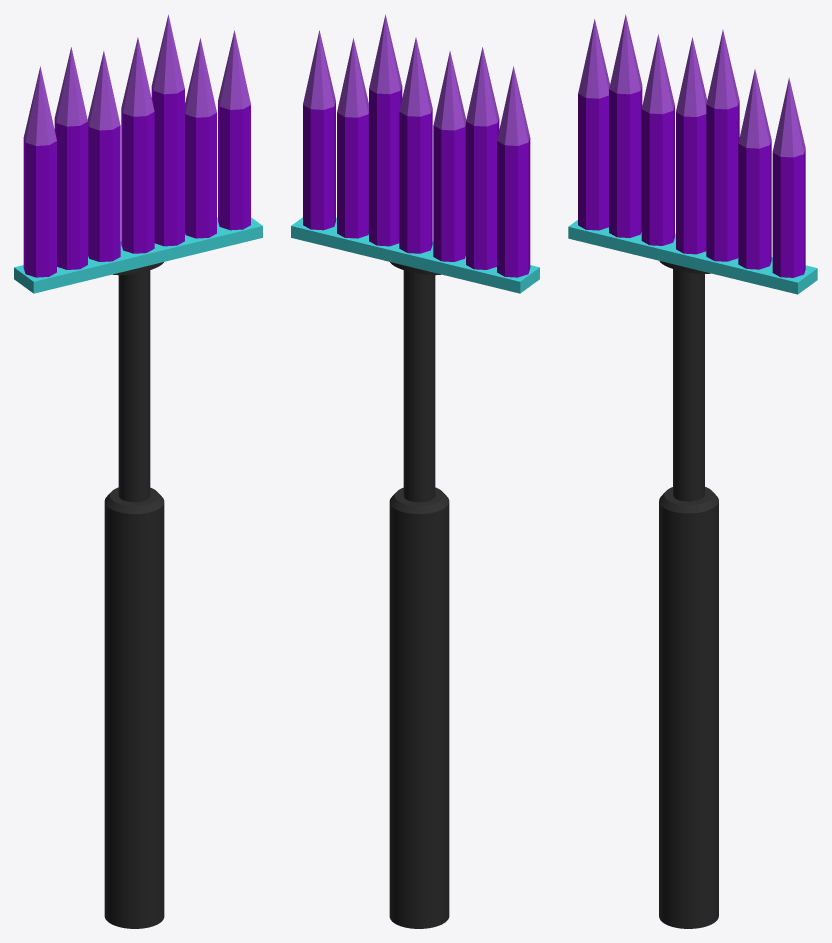
Rendered from kaatein.fbx.
The picture shows the model from 3 angles, left to right: view 1: azimuth 30°, elevation 25°; view 2: azimuth 150°, elevation 25°; view 3: azimuth 330°, elevation 25°; orthographic projection.
Parts seen in each view (by area): view 1: Cylinder.007, Cylinder.004, Cylinder.003, Cylinder.001, Cylinder, Cylinder.002, Cylinder.006, Cylinder.005, Cube; view 2: Cylinder.007, Cylinder.004, Cylinder.003, Cylinder.001, Cylinder, Cylinder.002, Cylinder.006, Cylinder.005, Cube; view 3: Cylinder.007, Cylinder.004, Cylinder.001, Cylinder.002, Cylinder.003, Cylinder.005, Cylinder.006, Cylinder, Cube.
Boxes of the visible parts, <box> form: Cylinder.007: <box>104,262,164,928</box>; Cylinder.004: <box>151,14,184,246</box>; Cylinder.003: <box>121,37,154,253</box>; Cylinder.001: <box>54,47,87,269</box>; Cylinder: <box>23,66,56,277</box>; Cylinder.002: <box>87,51,120,261</box>; Cylinder.006: <box>218,30,250,230</box>; Cylinder.005: <box>185,38,216,238</box>; Cube: <box>14,217,262,293</box>; Cylinder.007: <box>389,262,449,928</box>; Cylinder.004: <box>369,14,402,246</box>; Cylinder.003: <box>399,37,432,253</box>; Cylinder.001: <box>466,47,499,269</box>; Cylinder: <box>497,66,530,277</box>; Cylinder.002: <box>433,51,466,261</box>; Cylinder.006: <box>303,30,335,230</box>; Cylinder.005: <box>337,38,368,238</box>; Cube: <box>291,217,539,293</box>; Cylinder.007: <box>659,261,718,928</box>; Cylinder.004: <box>706,30,739,261</box>; Cylinder.001: <box>609,14,642,237</box>; Cylinder.002: <box>641,34,674,245</box>; Cylinder.003: <box>676,37,707,254</box>; Cylinder.005: <box>738,69,771,269</box>; Cylinder.006: <box>772,77,805,277</box>; Cylinder: <box>578,19,609,230</box>; Cube: <box>568,220,817,294</box>.
Size of the model in its own units: 97.56 by 364 by 22.3.
